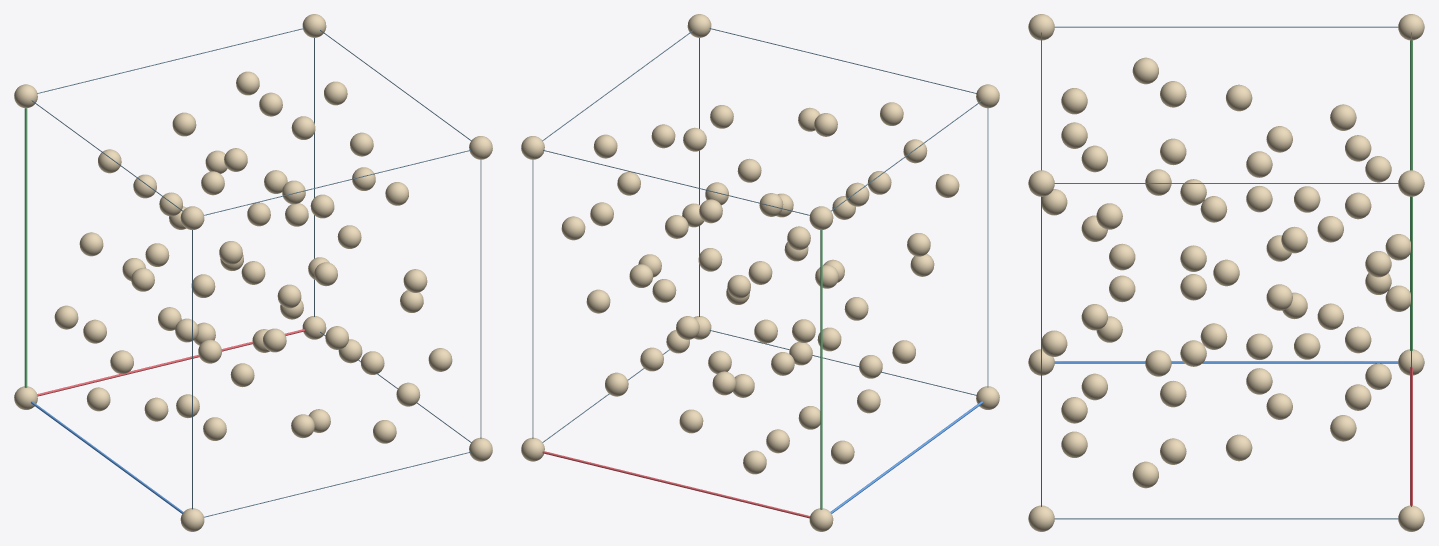
The model's file is nguyen-to-mn.glb.
3 renders of one model, left to right at view 1: azimuth 30°, elevation 25°; view 2: azimuth 150°, elevation 25°; view 3: azimuth 270°, elevation 25°, orthographic. The views are drawn at different scales.
Parts seen in each view (by area): view 1: Ô mạng và các trục a, b, c; view 2: Ô mạng và các trục a, b, c; view 3: Mn4 · Mn · 1 (×23), Mn3 · Mn · 1 (×23), Mn1 · Mn · 1 (×9), Ô mạng và các trục a, b, c, Mn2 · Mn · 1 (×7).
Part boxes in pixels (<box>): Ô mạng và các trục a, b, c: <box>24,28,481,517</box>; Ô mạng và các trục a, b, c: <box>532,28,988,518</box>; Mn4 · Mn · 1 (×23): <box>1061,57,1391,488</box>; Mn3 · Mn · 1 (×23): <box>1042,81,1410,464</box>; Mn1 · Mn · 1 (×9): <box>1028,14,1424,531</box>; Ô mạng và các trục a, b, c: <box>1041,26,1412,519</box>; Mn2 · Mn · 1 (×7): <box>1096,104,1356,441</box>.
Bounding box in the file's own units: 9.55 × 9.55 × 9.55.
